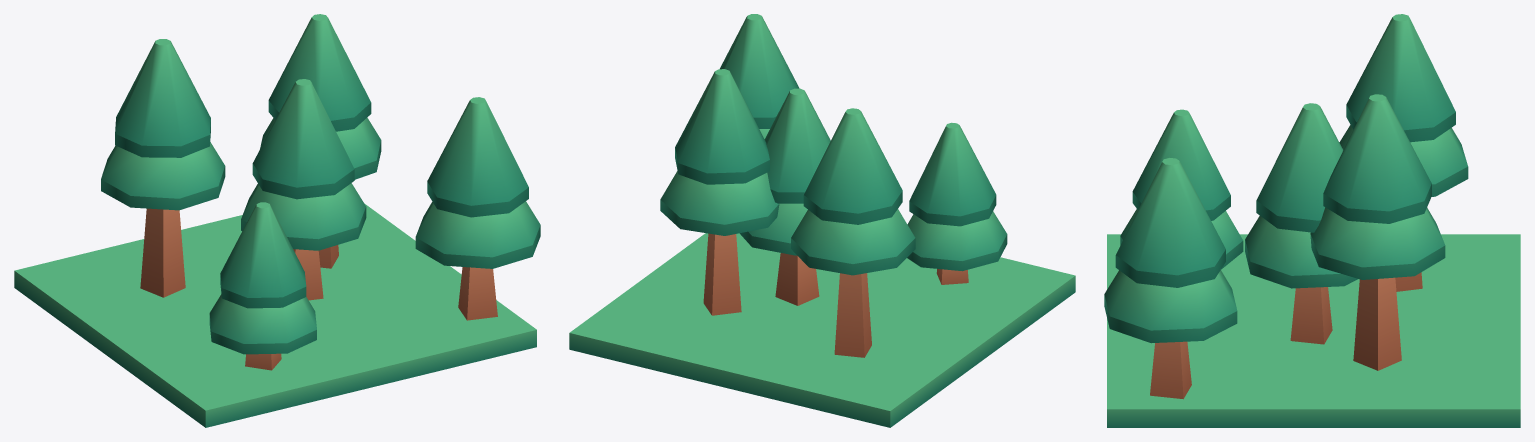
The model's file is grass-trees-tall.glb.
3 renders of one model, left to right at view 1: azimuth 30°, elevation 25°; view 2: azimuth 150°, elevation 25°; view 3: azimuth 270°, elevation 25°, orthographic. The views are drawn at different scales.
Parts seen in each view (by area): view 1: grass-trees-tall; view 2: grass-trees-tall; view 3: grass-trees-tall.
Boxes of the visible parts, left/top/right/bottom form: grass-trees-tall: left=14, top=14, right=540, bottom=427; grass-trees-tall: left=569, top=14, right=1075, bottom=427; grass-trees-tall: left=1104, top=14, right=1520, bottom=427.
Size of the model in its own units: 1.07 by 0.7596 by 1.01.
1 material, 1 textured.
